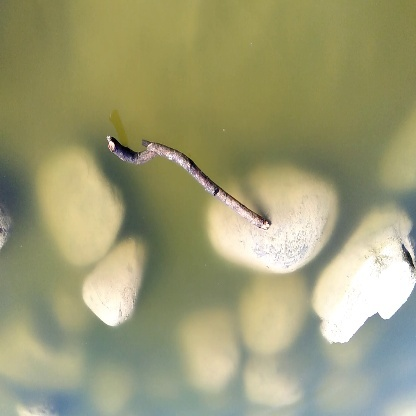branch: (104, 129, 271, 234)
